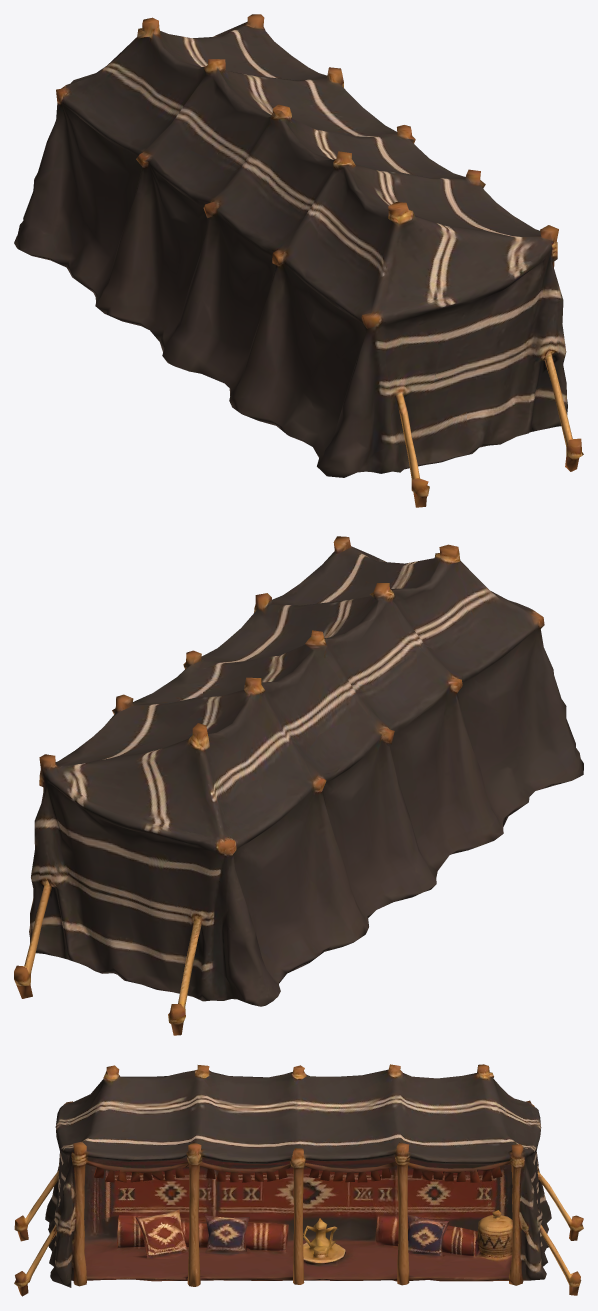
File: tent.glb
3 renders of one model, top to bottom at view 1: azimuth 30°, elevation 25°; view 2: azimuth 150°, elevation 25°; view 3: azimuth 270°, elevation 25°, orthographic. The views are drawn at different scales.
Parts seen in each view (by area): view 1: tripo_node_824a759d-b80a-4180-97b6-160d8170d115; view 2: tripo_node_824a759d-b80a-4180-97b6-160d8170d115; view 3: tripo_node_824a759d-b80a-4180-97b6-160d8170d115.
Boxes of the visible parts, x1,y1,x2,y2 form: tripo_node_824a759d-b80a-4180-97b6-160d8170d115: (14, 14, 583, 507); tripo_node_824a759d-b80a-4180-97b6-160d8170d115: (14, 536, 583, 1035); tripo_node_824a759d-b80a-4180-97b6-160d8170d115: (14, 1064, 583, 1296).
Size of the model in its own units: 0.3704 by 0.3688 by 1.
1 material, 1 textured.
